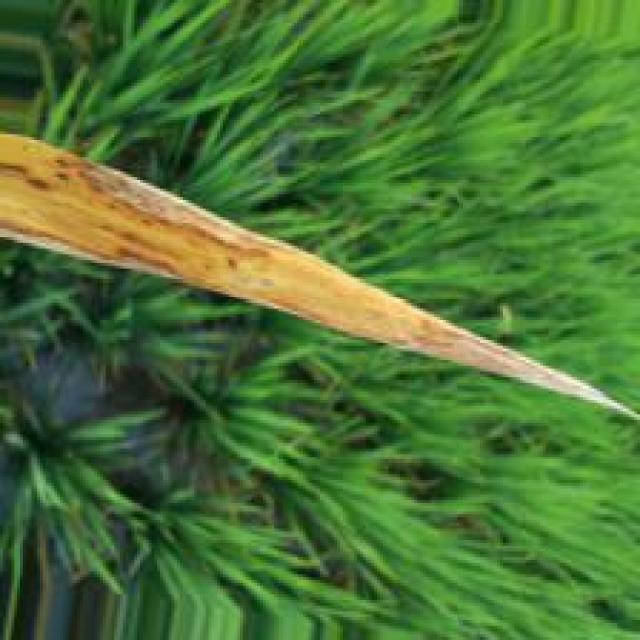Bacterial_Leaf_Blight: (0, 125, 635, 422)
